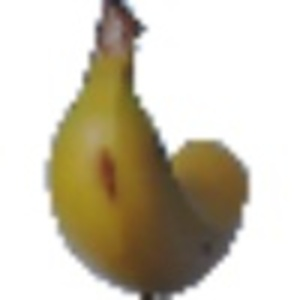banana: (45, 5, 258, 295)
